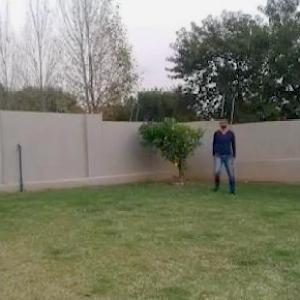follow: (213, 114, 233, 193)
